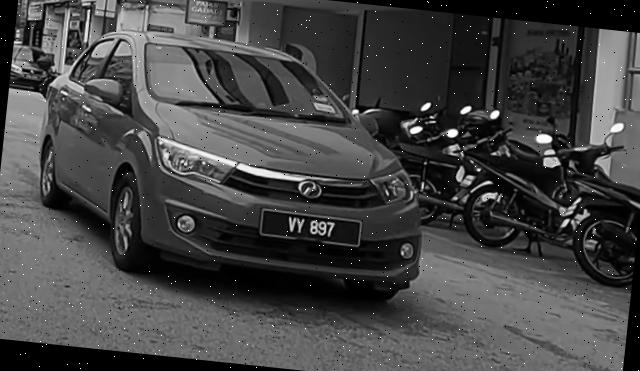License_Plate: (257, 207, 364, 249)
car: (27, 20, 444, 306)
